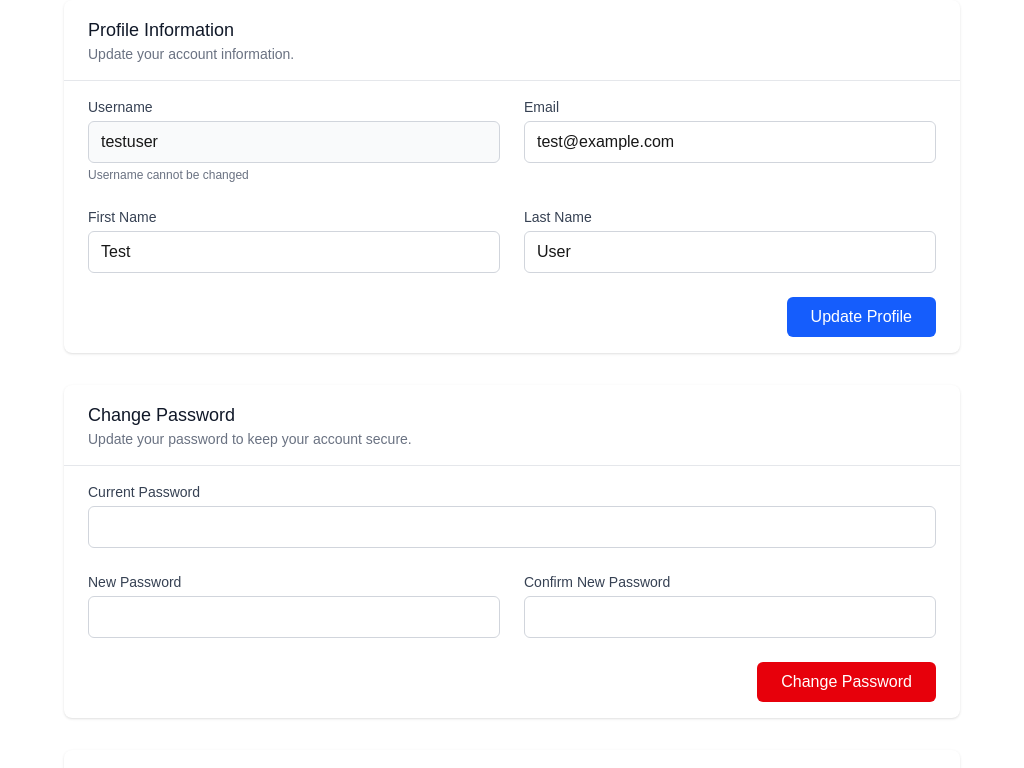
ProfilePage Component › Password Change Form › should show error message when password change fails
Type "wrongpassword" into the password field below "Current Password" at (512, 527), box [88,506,936,548]
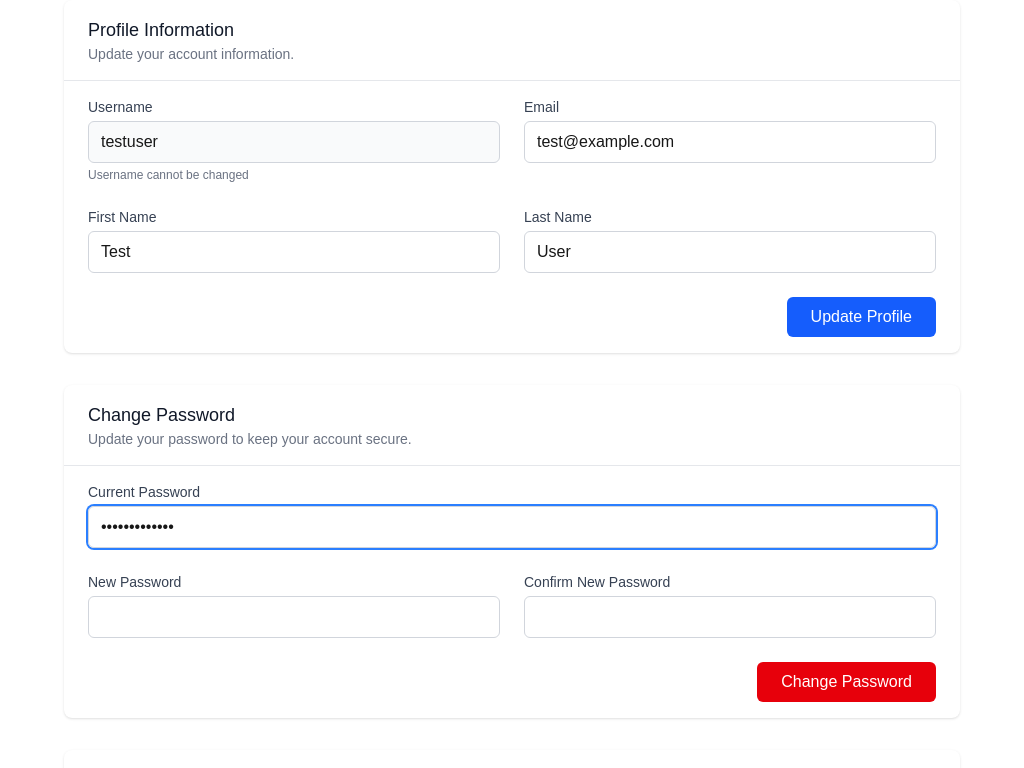
Type "newpassword" into the 2nd password field at (294, 617), box [88,596,500,638]
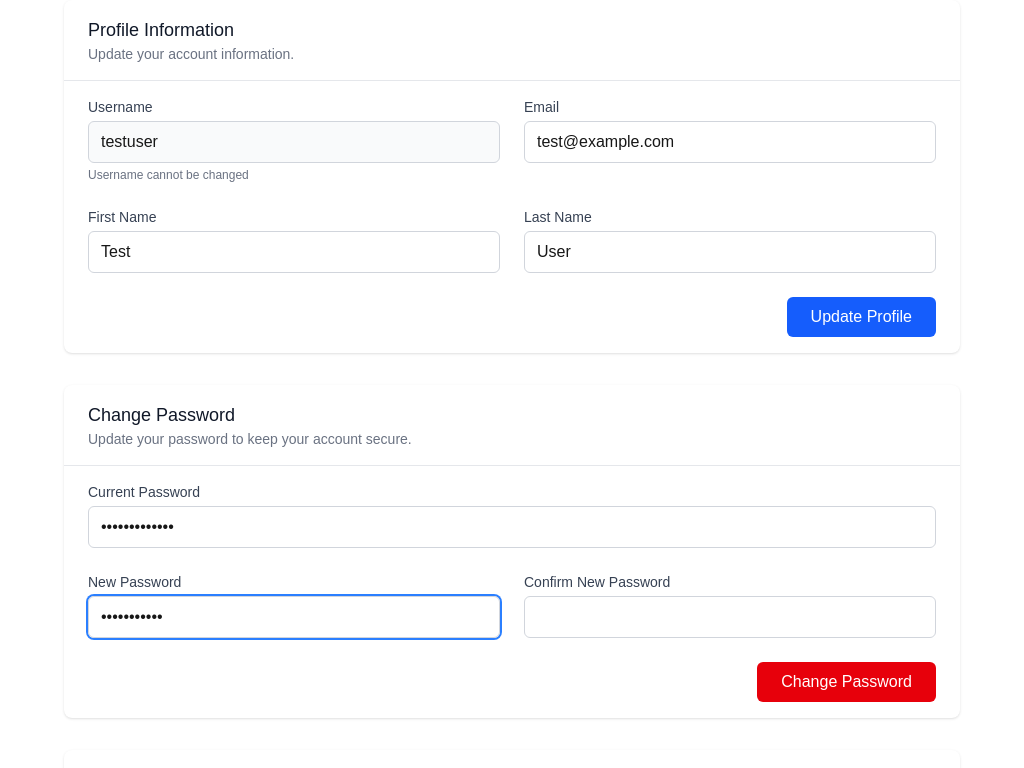
Type "newpassword" into the password field below "Confirm New Password" at (730, 617), box [524,596,936,638]
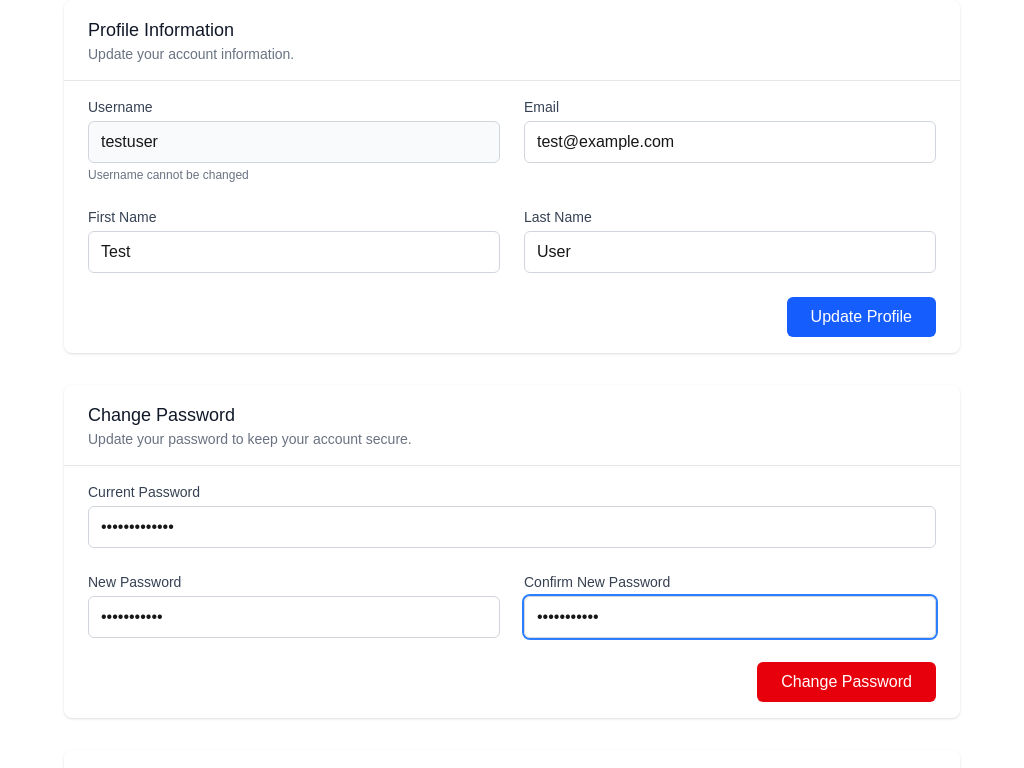
Click the button "Change Password" at (847, 682), box [757,662,936,702]
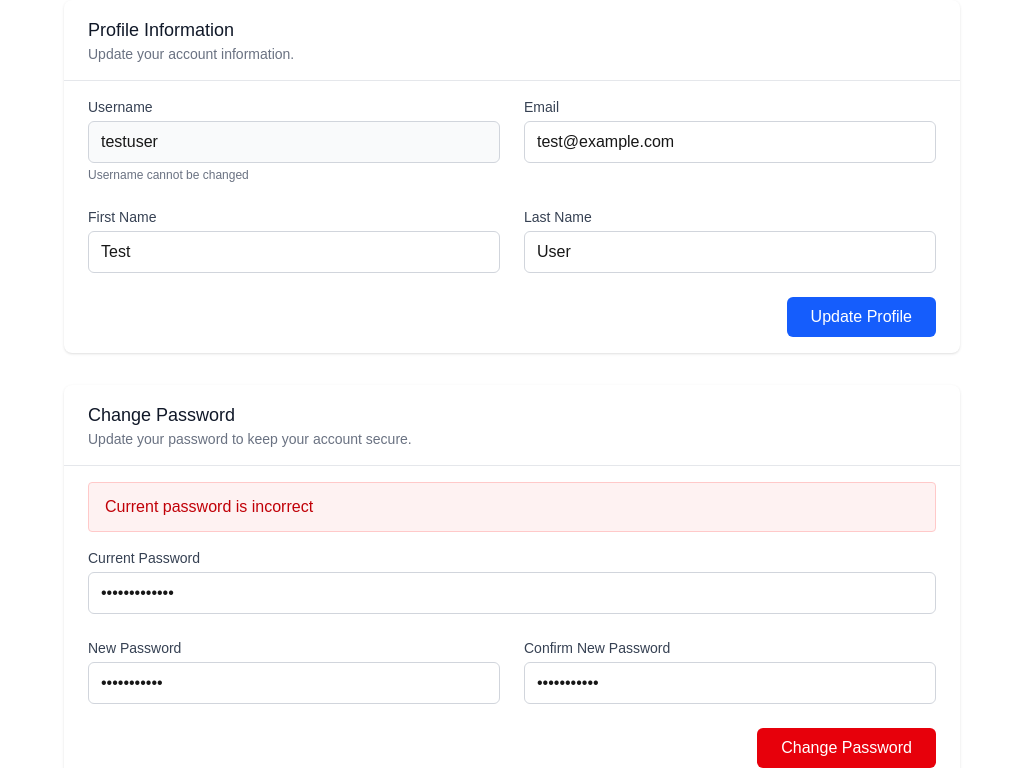
Now the text "Current password is incorrect" is shown, box [88,482,936,532]
